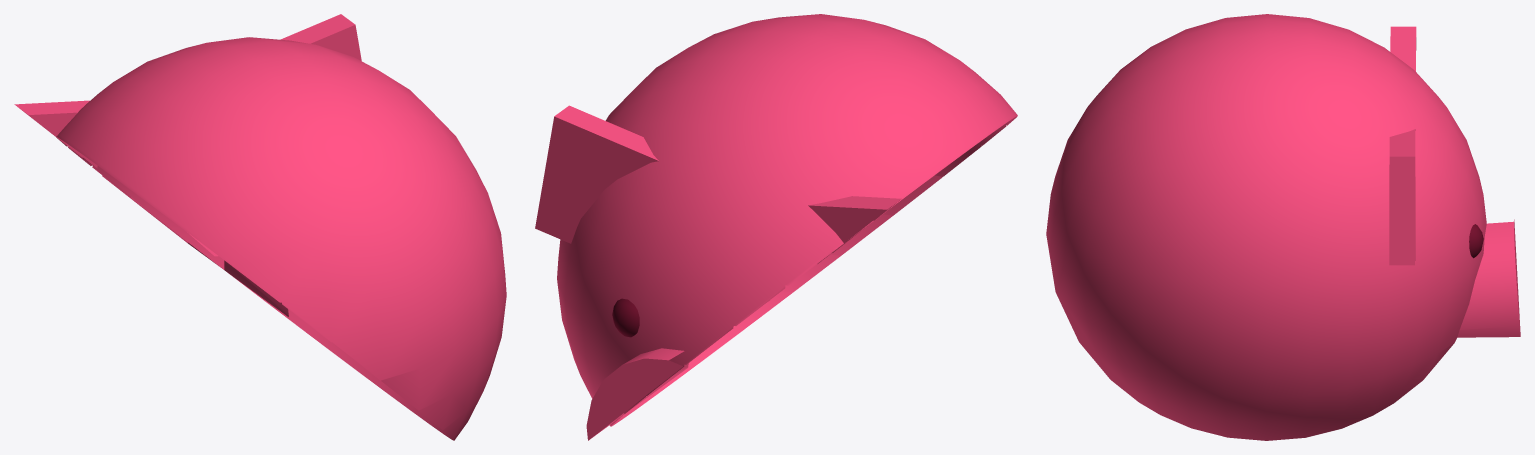
The model's file is pig_up.FBX.
The picture shows the model from 3 angles, left to right: view 1: azimuth 30°, elevation 25°; view 2: azimuth 150°, elevation 25°; view 3: azimuth 270°, elevation 25°; orthographic projection. The views are drawn at different scales.
Visible parts, largest first — view 1: pig_up; view 2: pig_up; view 3: pig_up.
Part boxes in pixels (<box>): pig_up: <box>14,14,506,440</box>; pig_up: <box>535,14,1017,440</box>; pig_up: <box>1046,14,1520,440</box>.
Size of the model in its own units: 0.512 by 0.5063 by 0.6393.
